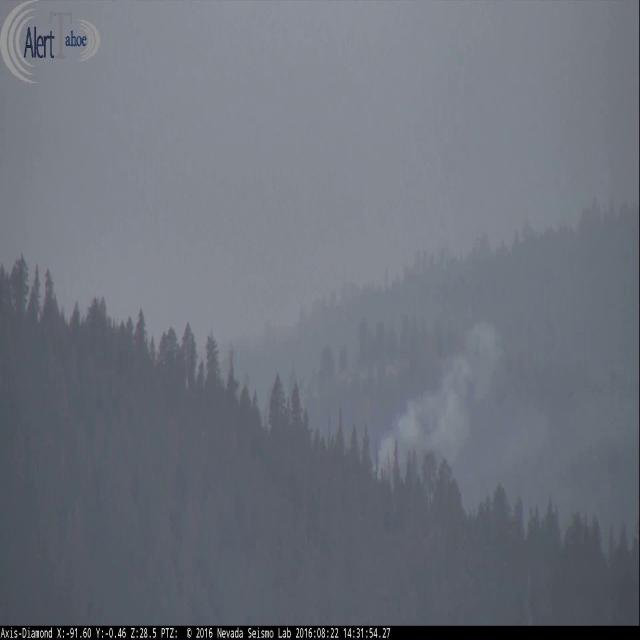smoke: (373, 316, 640, 477)
